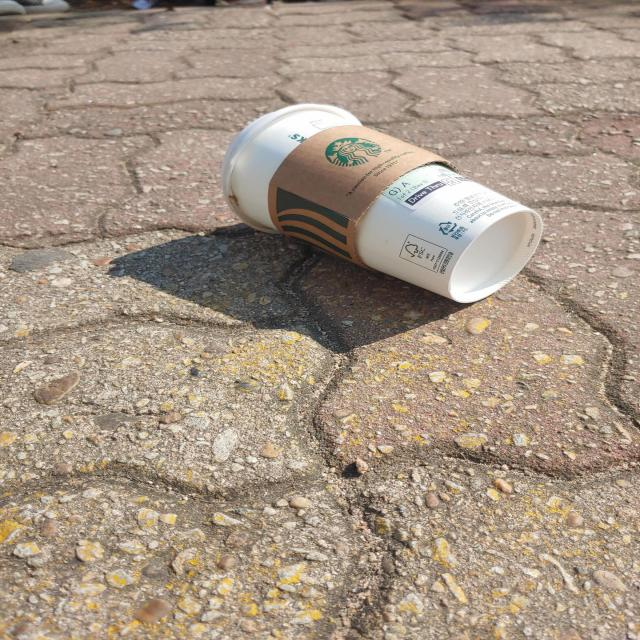paperpack: (221, 103, 543, 303)
